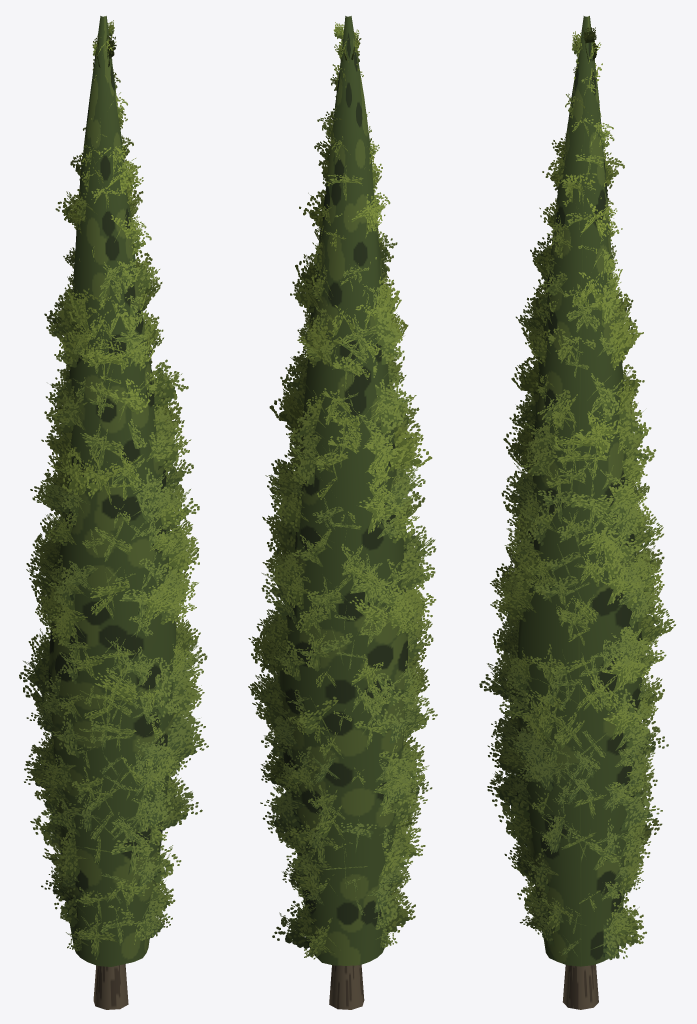
3 renders of one model, left to right at view 1: azimuth 30°, elevation 25°; view 2: azimuth 150°, elevation 25°; view 3: azimuth 270°, elevation 25°, orthographic.
Visible parts, largest first — view 1: Mesh_cypress; view 2: Mesh_cypress; view 3: Mesh_cypress.
Part boxes in pixels (x1,y1,x2,y2): Mesh_cypress: (19, 16, 208, 1009); Mesh_cypress: (248, 16, 437, 1009); Mesh_cypress: (479, 16, 675, 1009).
Size of the model in its own units: 1.3 by 7.2 by 1.39.
Materials: 1 (1 with a texture image).
